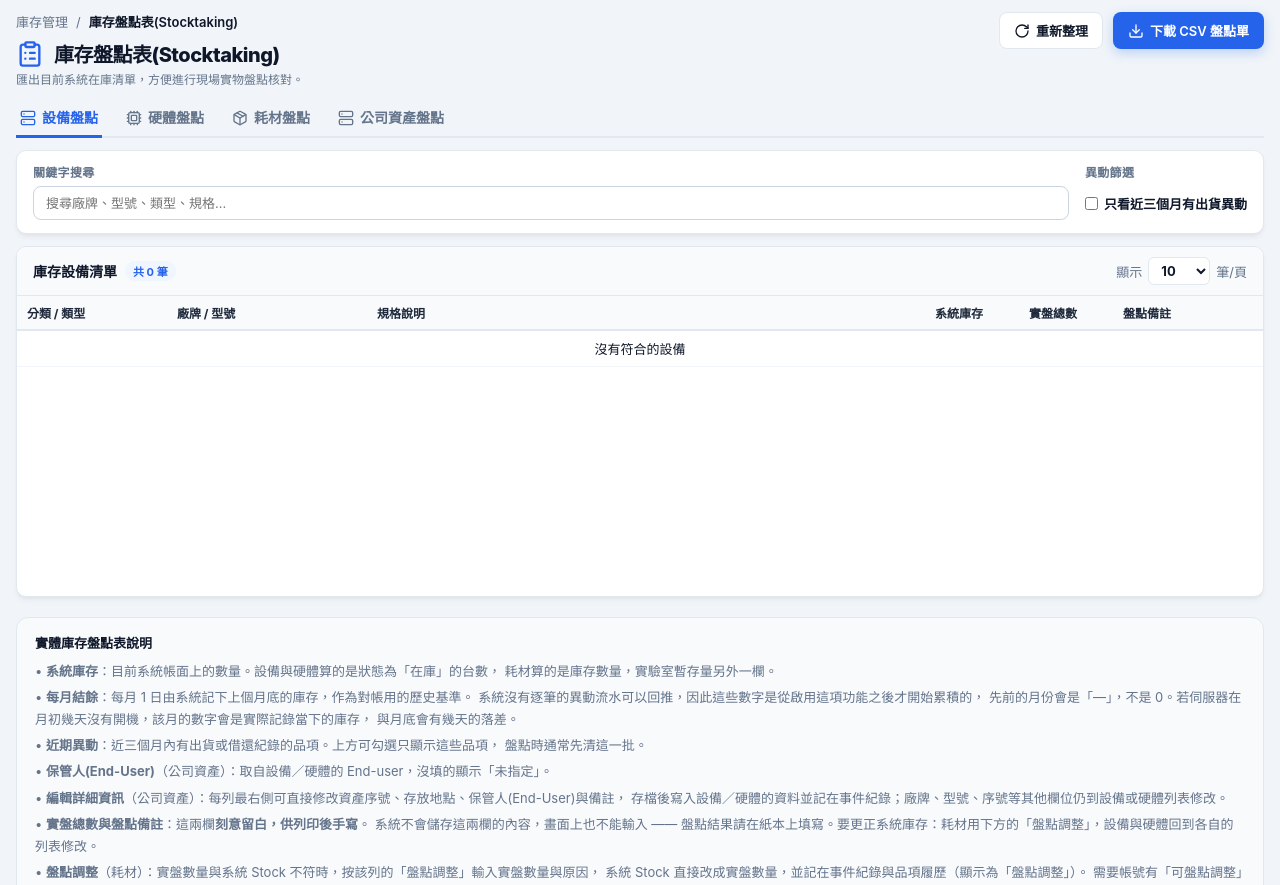
Test: 盤點表 > 公司資產 > 編輯詳細資訊 › 改成沒人用的編號：照常存檔
The image size is (1280, 885).
Click the text "公司資產盤點" at (391, 118), box 338,109 -> 444,126
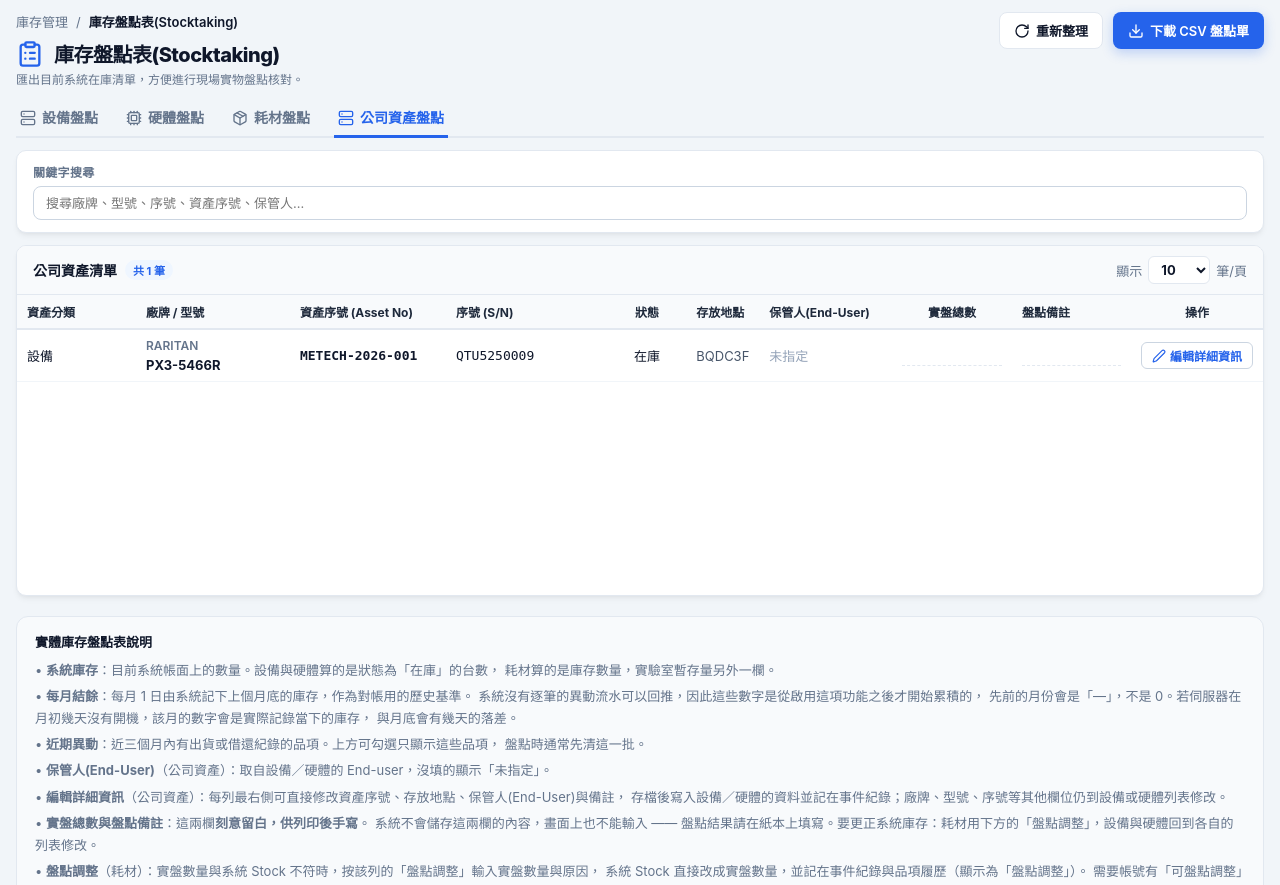
Result: the text "QTU5250009" is shown at 446,329 -> 608,382
Click the button "編輯詳細資訊" at (1197, 356), box 1141,342 -> 1253,369
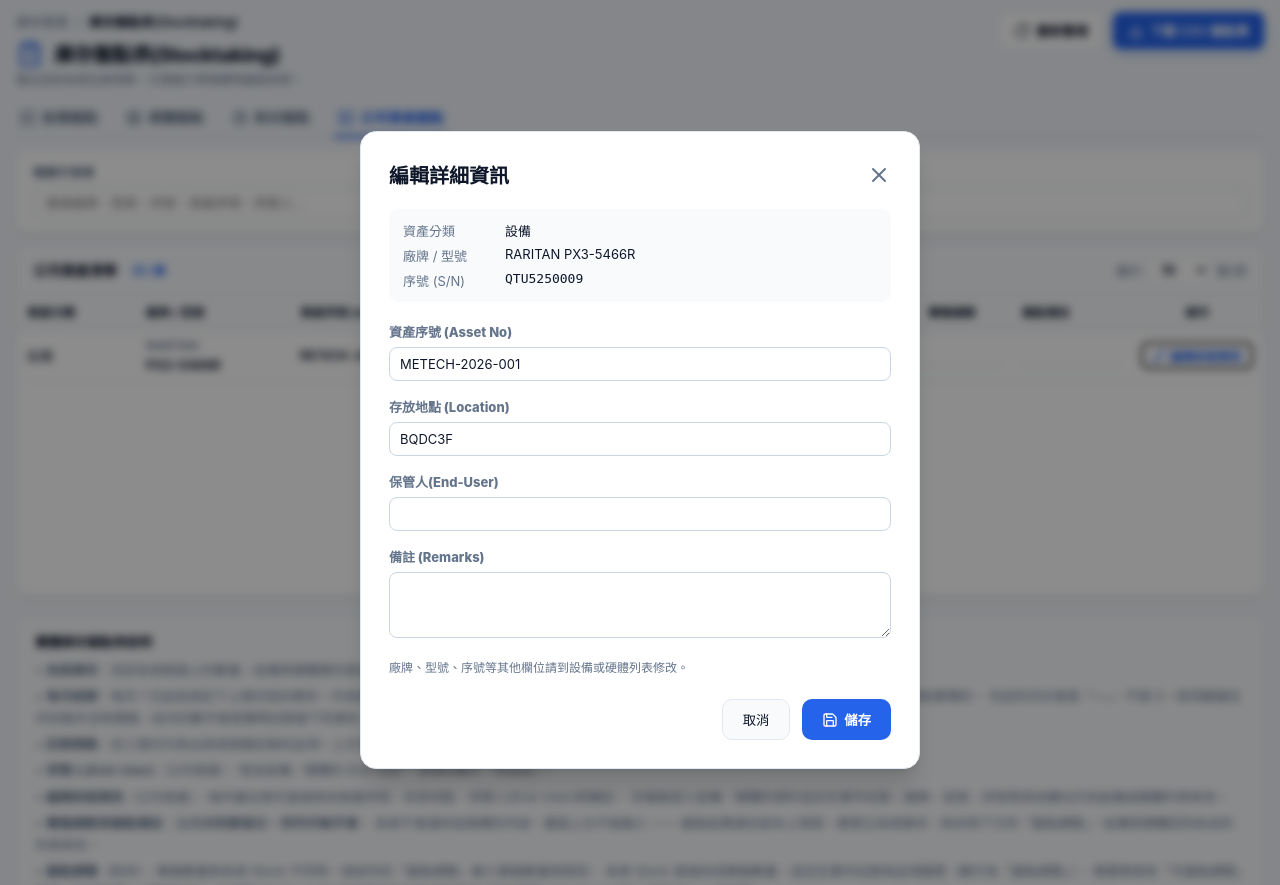
Replace the text in the field labelled "資產序號 (Asset No)" with "METECH-2026-100" at (640, 364), box 389,347 -> 891,381
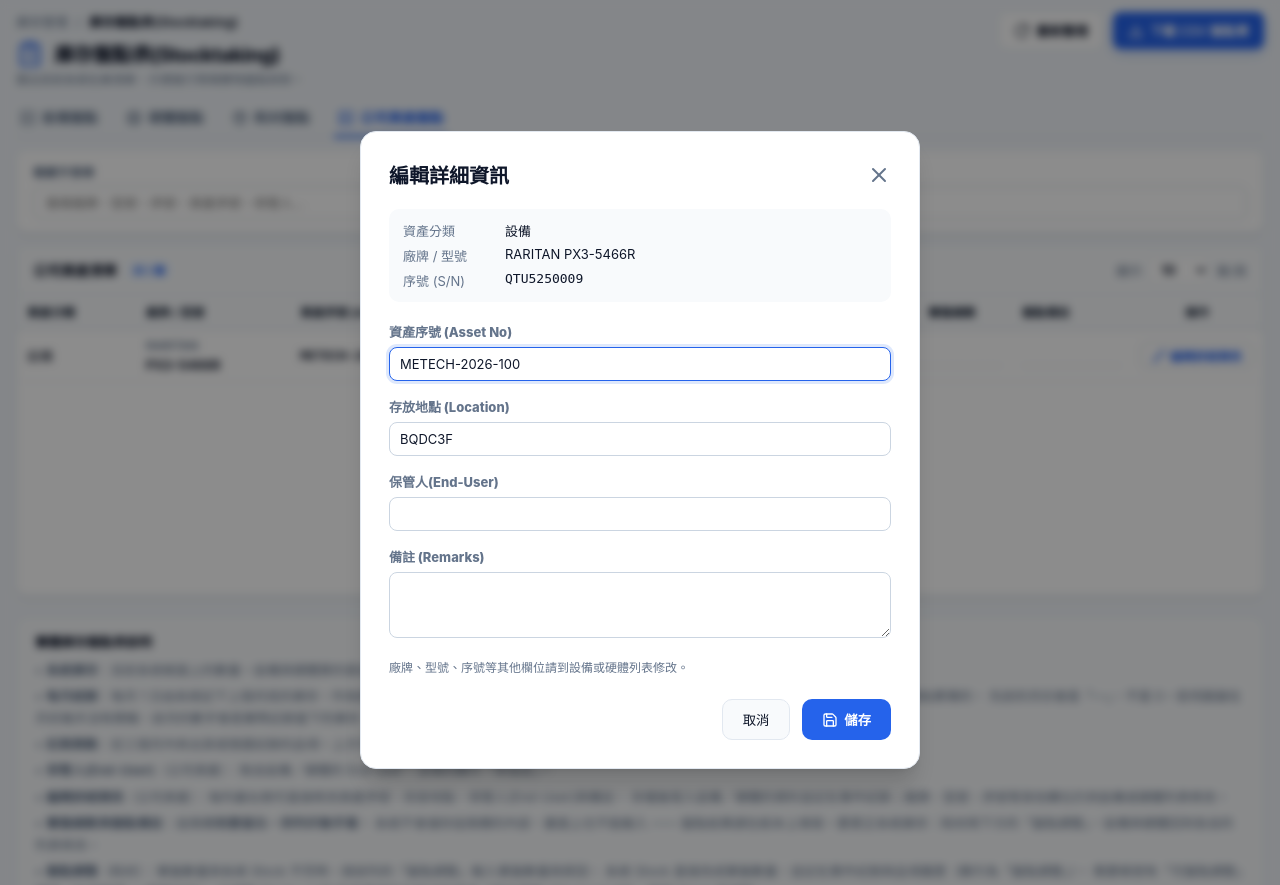
Click the button "儲存" at (847, 720), box 802,699 -> 891,740
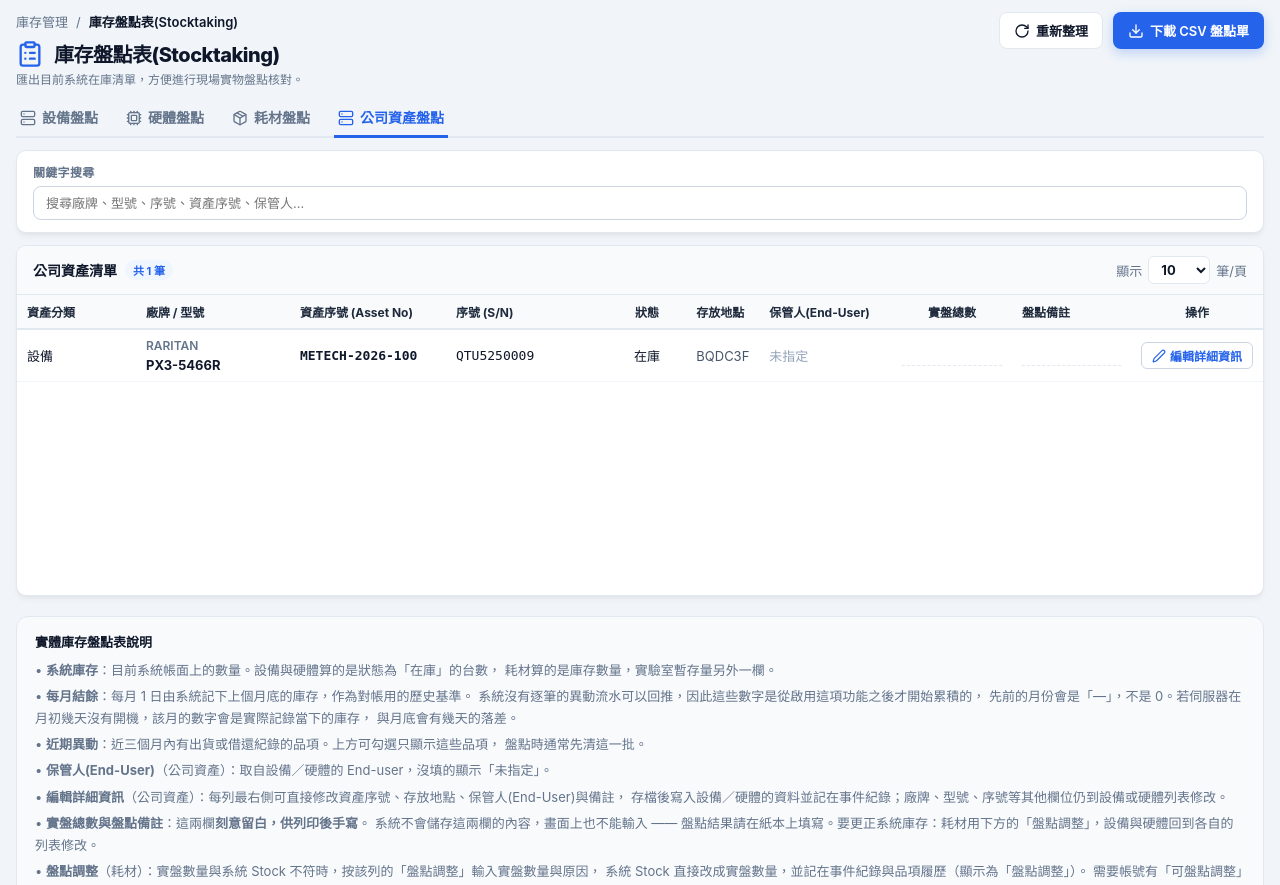
Result: the dialog is gone
